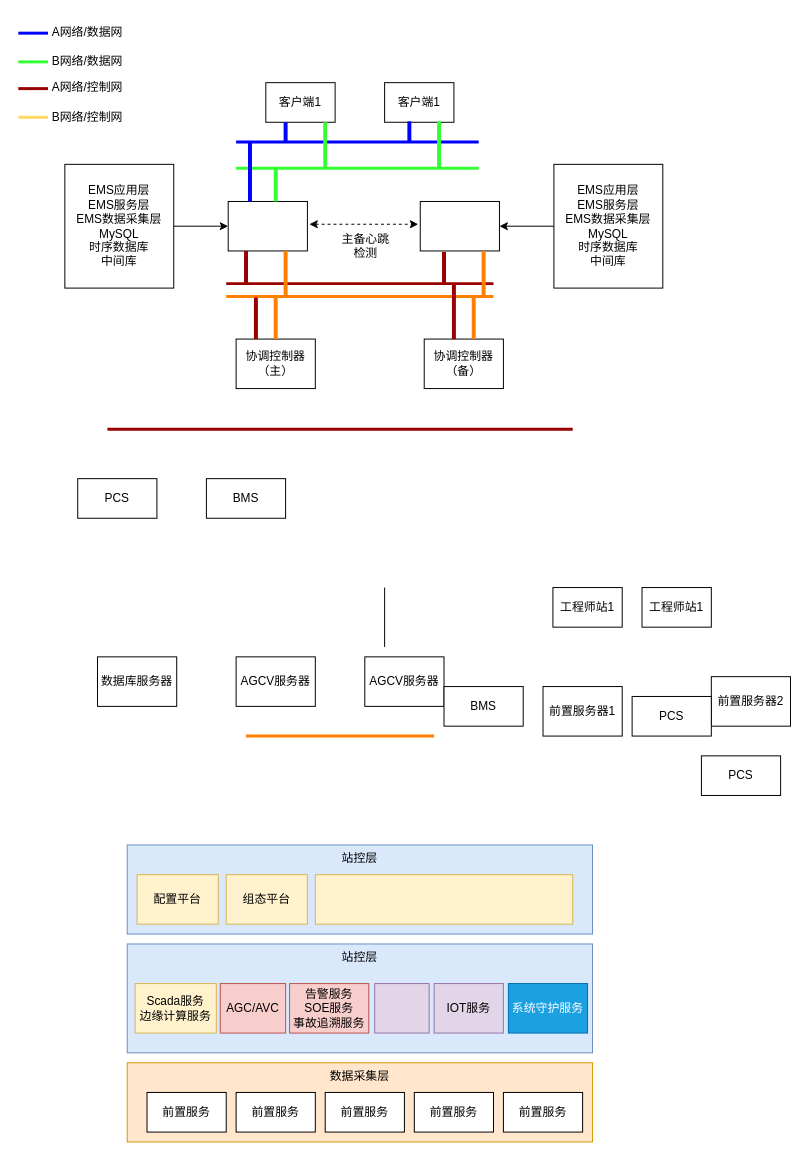
The diagram is 808 pixels wide and 1159 high, and some of its shapes have lost their labels. The centre of each missing label's shape, as x and y in pixels:
"EMS服务器（主）" goes at (x=267, y=225).
"EMS服务器（备）" goes at (x=459, y=225).
"数据存储服务" goes at (x=401, y=1008).
"监控平台" goes at (x=443, y=899).
